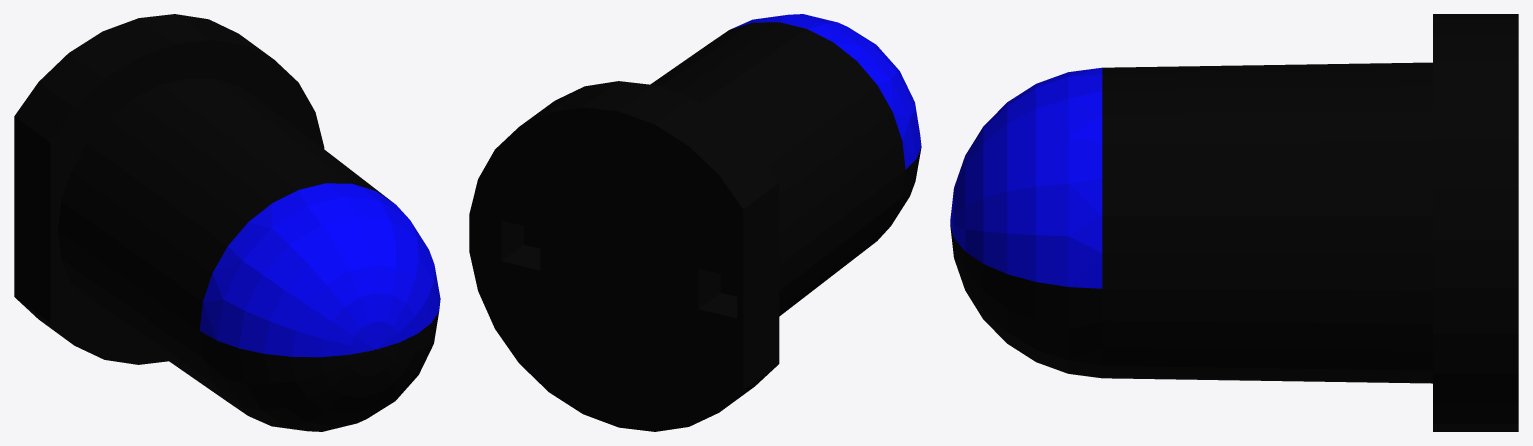
The model's file is LED 3mm blue.obj.
The picture shows the model from 3 angles, left to right: view 1: azimuth 30°, elevation 25°; view 2: azimuth 150°, elevation 25°; view 3: azimuth 270°, elevation 25°; orthographic projection. The views are drawn at different scales.
Visible parts, largest first — view 1: LED_3mm_blue; view 2: LED_3mm_blue; view 3: LED_3mm_blue.
Boxes of the visible parts, x1,y1,x2,y2 form: LED_3mm_blue: (14, 14, 440, 431); LED_3mm_blue: (469, 14, 921, 431); LED_3mm_blue: (950, 14, 1518, 431).
Size of the model in its own units: 0.0191 by 0.021 by 0.0286.
